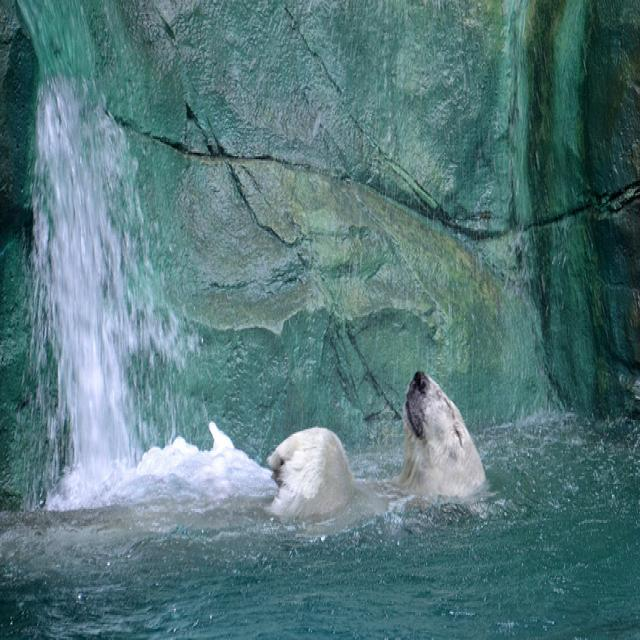Bear: (109, 372, 494, 530)
